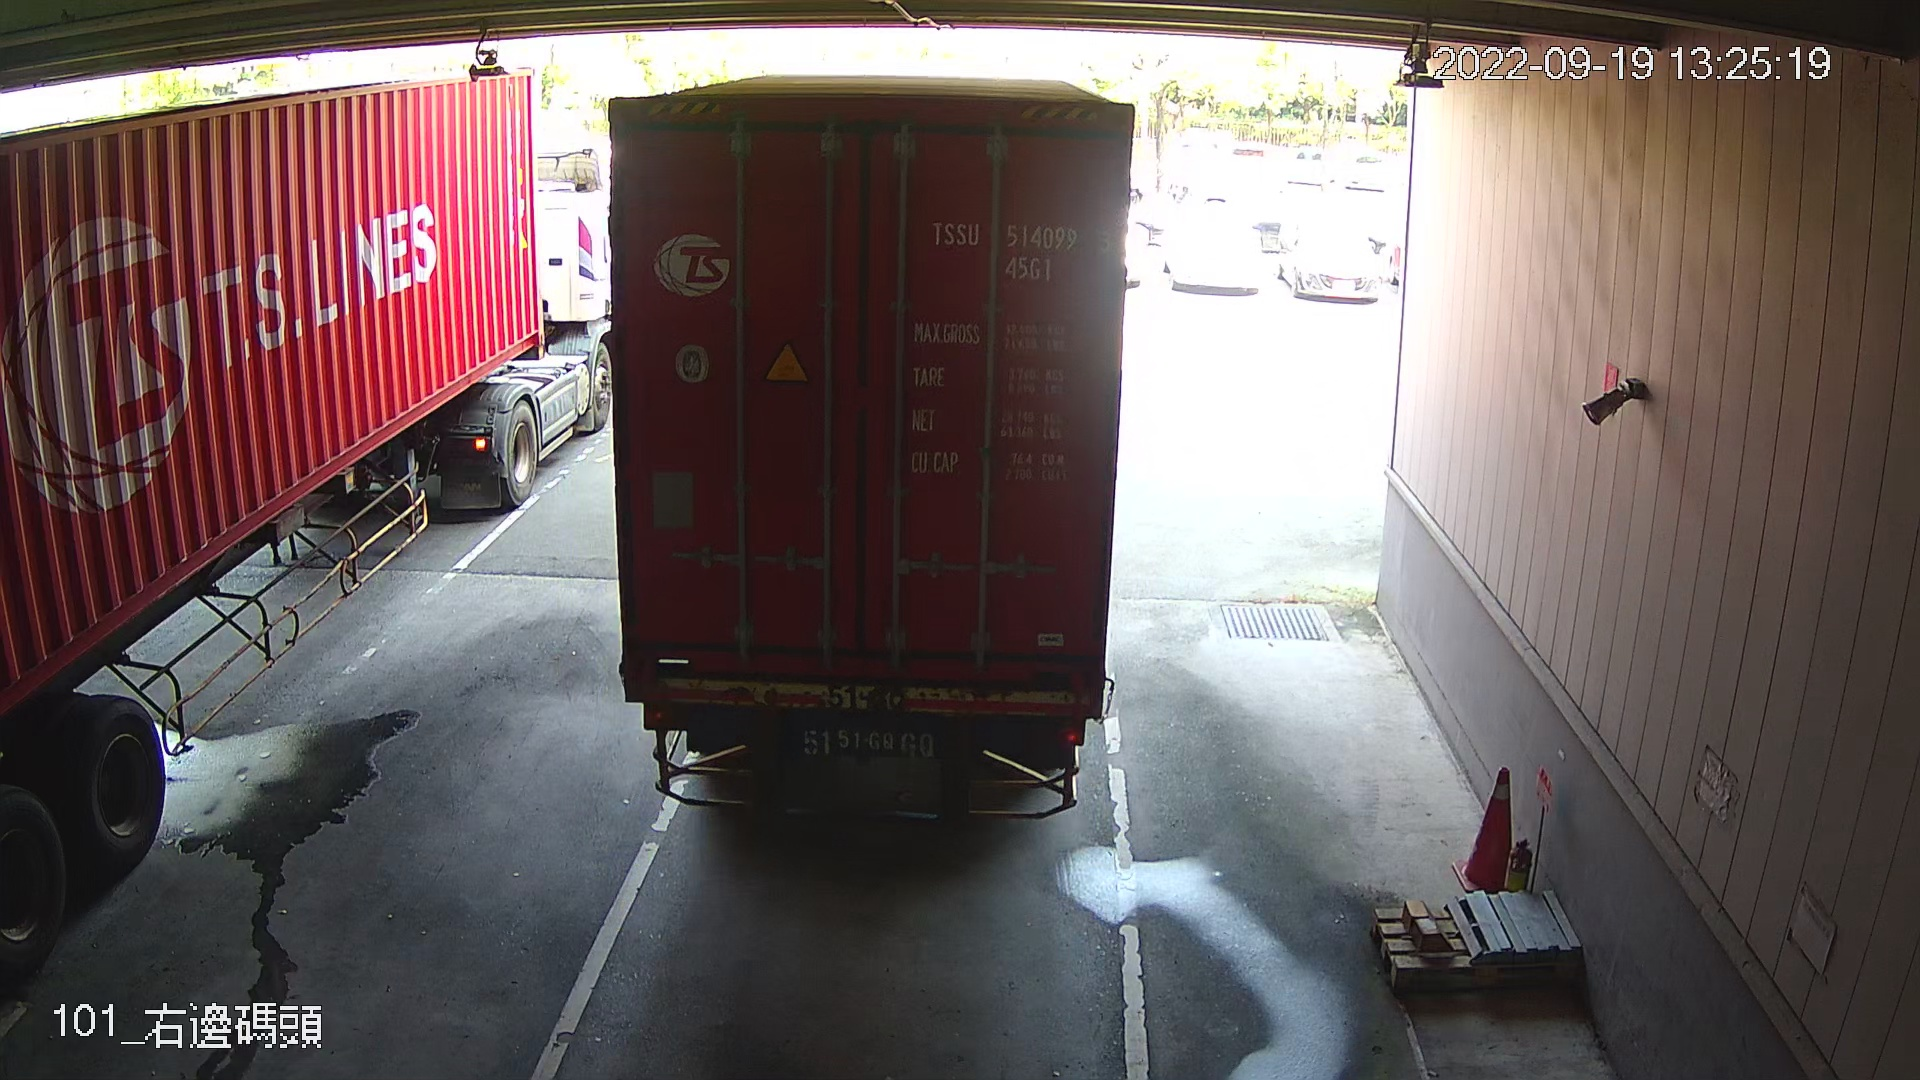container: (919, 207, 1116, 287)
